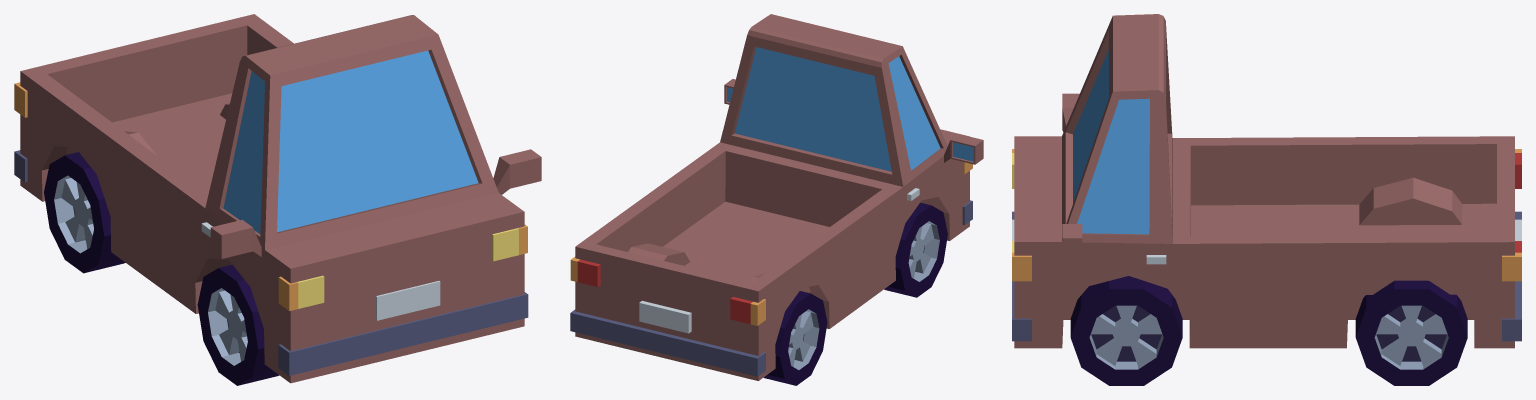
Rendered from Truck2.fbx.
3 views of the same model, side by side, from view 1: azimuth 30°, elevation 25°; view 2: azimuth 150°, elevation 25°; view 3: azimuth 270°, elevation 25° (orthographic). The views are drawn at different scales.
Parts seen in each view (by area): view 1: Cube.003; view 2: Cube.003; view 3: Cube.003.
Boxes of the visible parts, box(x1,y1,x2,y2) form: Cube.003: box(14, 14, 541, 385); Cube.003: box(570, 14, 983, 385); Cube.003: box(1012, 14, 1521, 385).
Size of the model in its own units: 2.74 by 4.07 by 2.47.
1 material, 1 textured.
